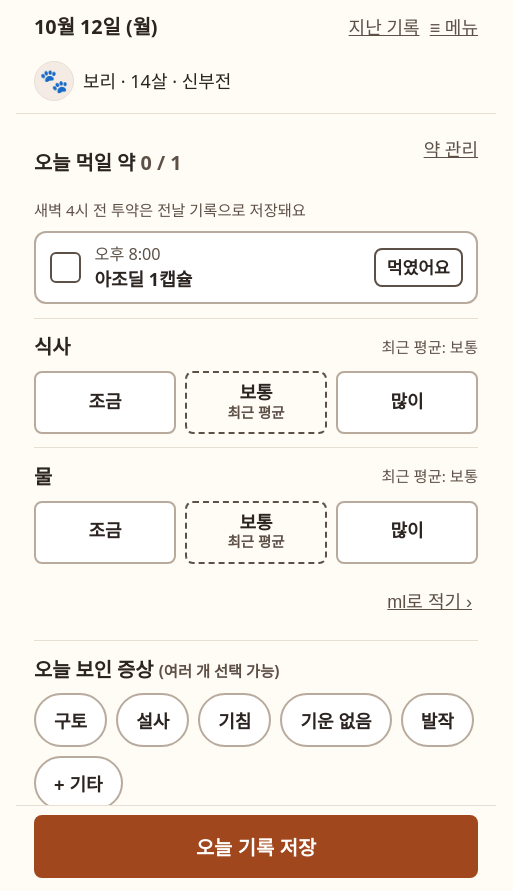
QA: 04시 경계 분류 › 되돌리기 직전 확인에서 기록 날짜가 이미 넘어갔으면 DELETE·PUT 없이 만료 안내
Click the button "오늘 기록 저장": (256, 846) [34,814,478,878]
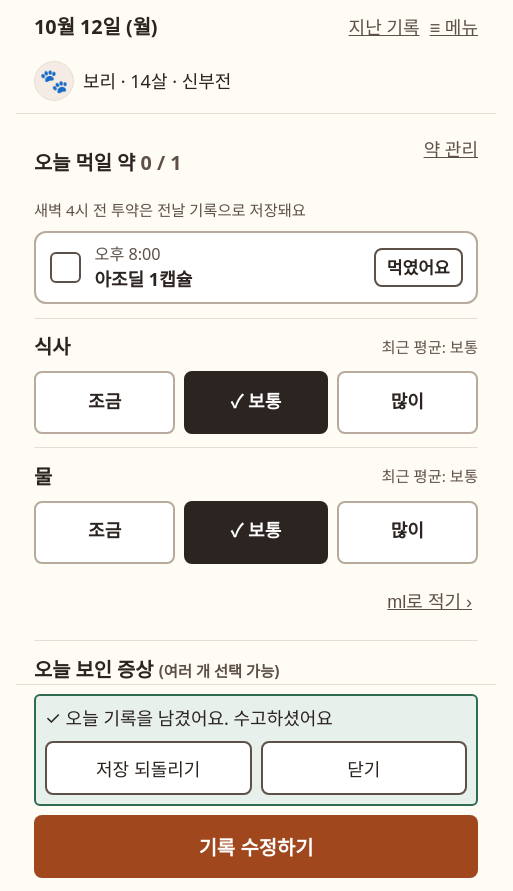
Click the button "저장 되돌리기": (148, 768) [45,740,252,794]
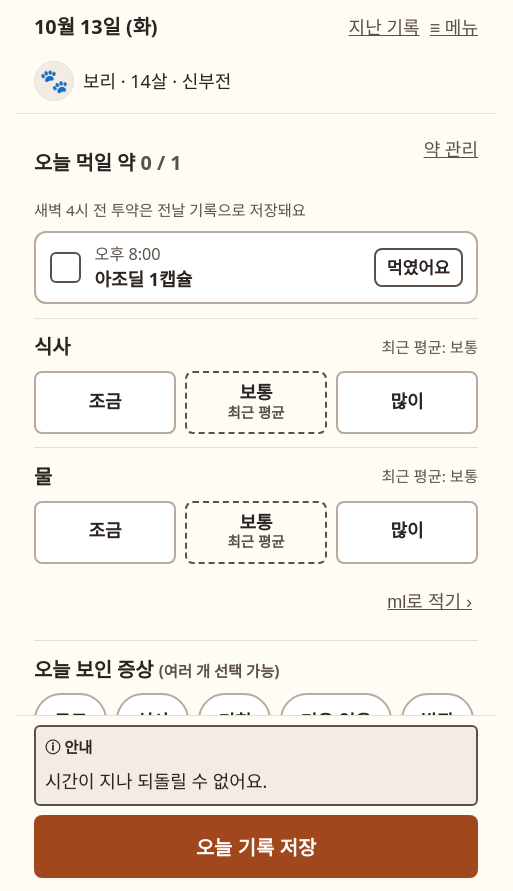
Expected: the text "시간이 지나 되돌릴 수 없어요." is shown, [45,768,267,792]
